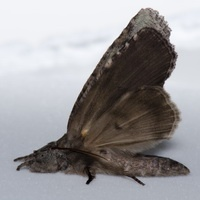insect: (14, 8, 189, 184)
